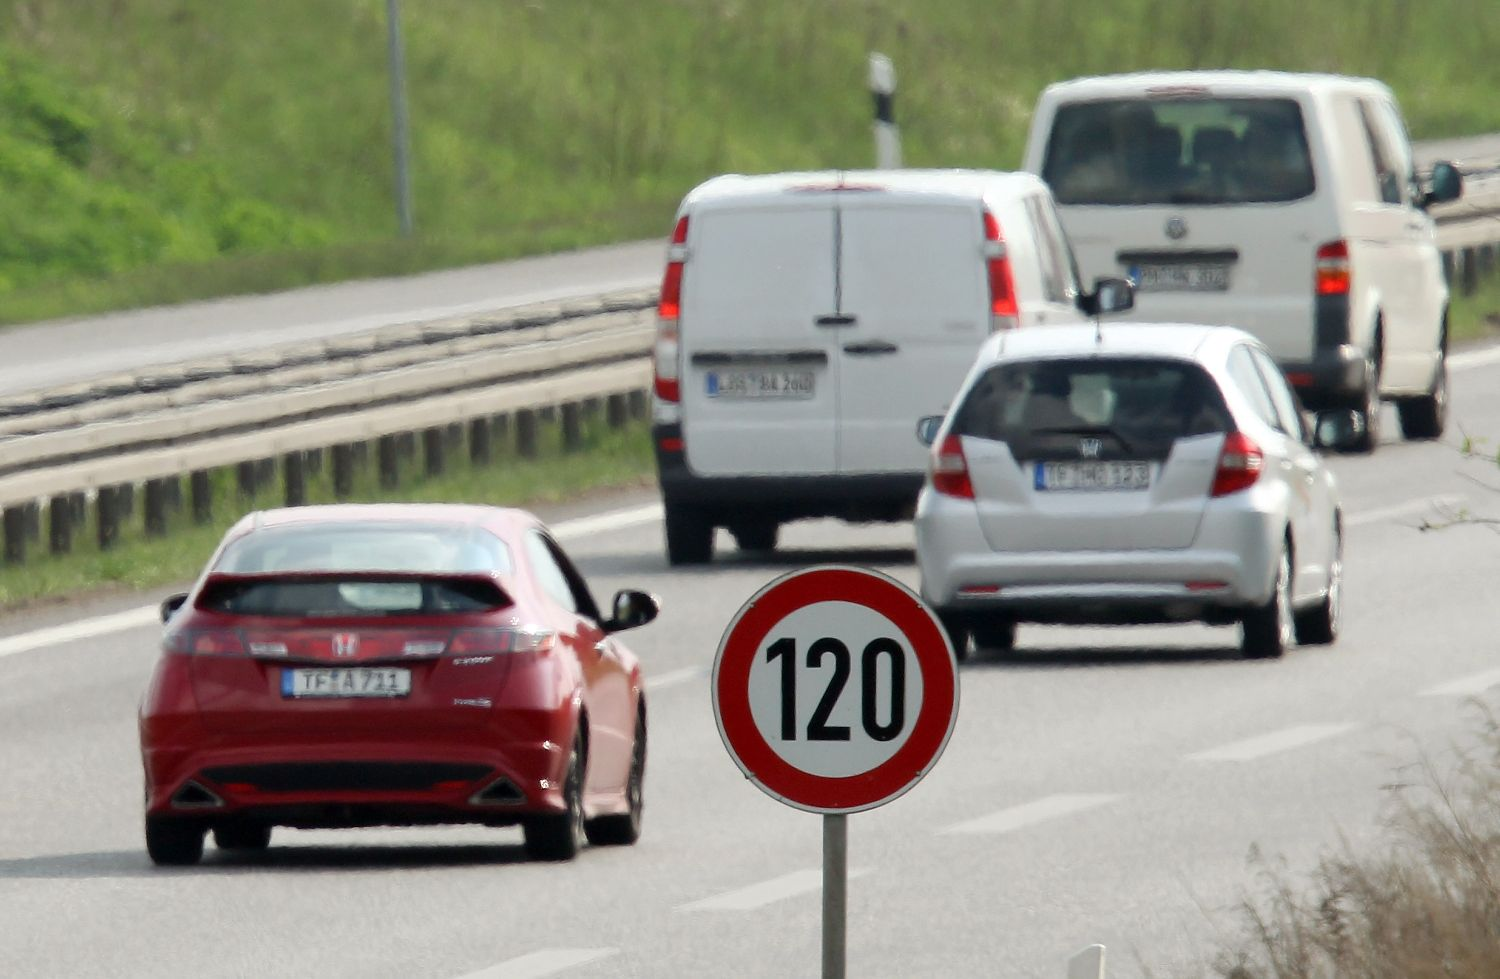Speed_limit_120km: (710, 561, 961, 813)
car: (132, 493, 676, 873), (905, 310, 1356, 676)
